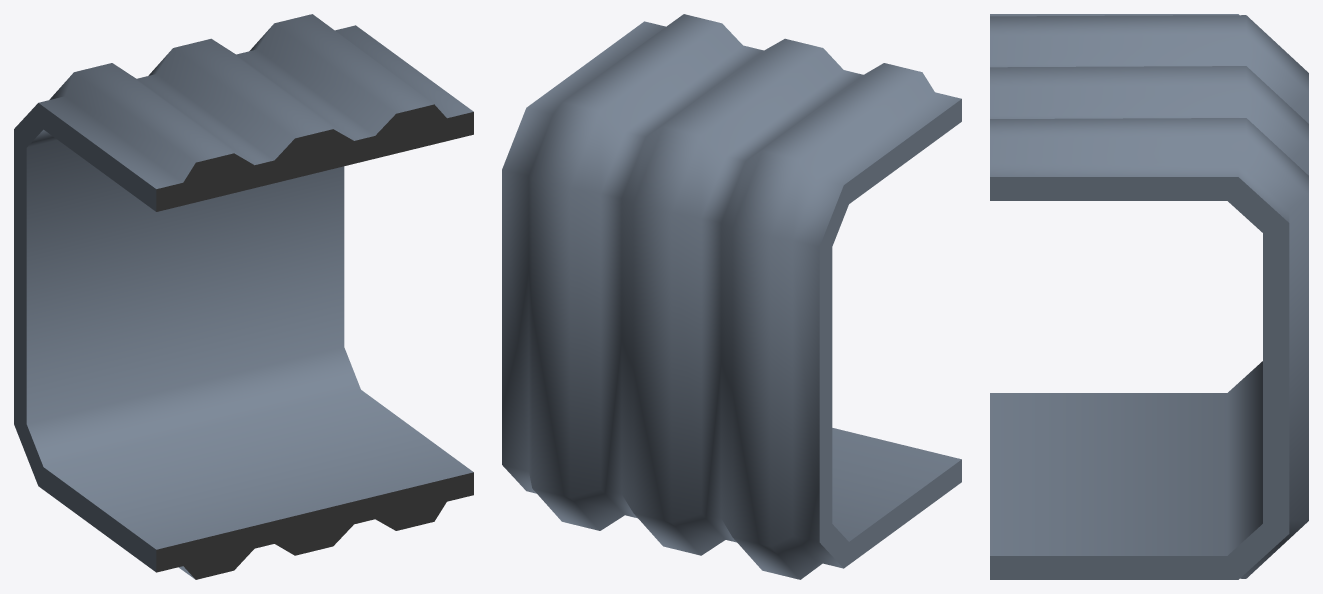
Rendered from Connector.fbx.
3 views of the same model, side by side, from view 1: azimuth 30°, elevation 25°; view 2: azimuth 150°, elevation 25°; view 3: azimuth 270°, elevation 25° (orthographic). The views are drawn at different scales.
Visible parts, largest first — view 1: Connector; view 2: Connector; view 3: Connector.
Part boxes in pixels (left/top/right/bottom): Connector: left=14, top=14, right=473, bottom=579; Connector: left=502, top=14, right=961, bottom=579; Connector: left=990, top=14, right=1308, bottom=579.
Bounding box in the file's own units: 2.6 × 3.28 × 2.15.
